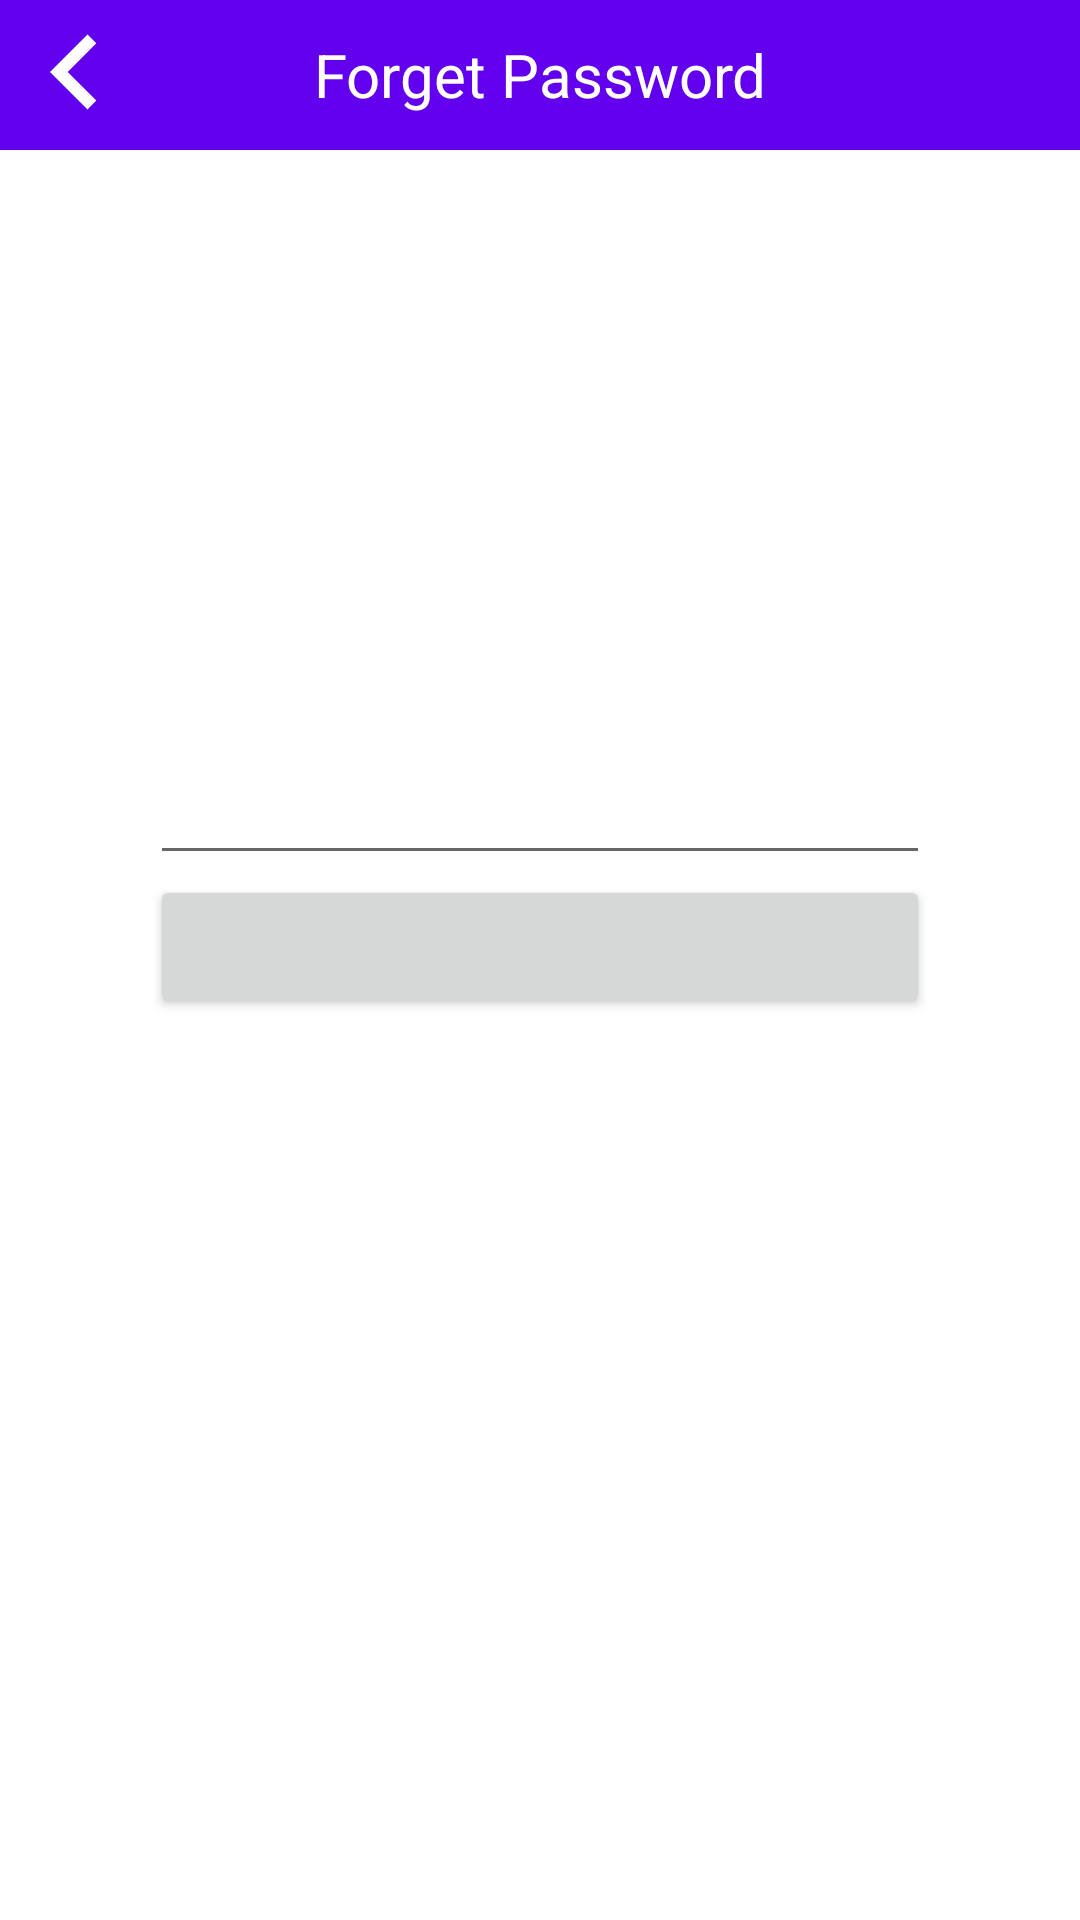

Icon bounding boxes for this 1080 × 1920 phone screenshot, format (x1=x1, y1=y1, x2=x2, y2=y2):
back: (x1=50, y1=34, x2=96, y2=110)
